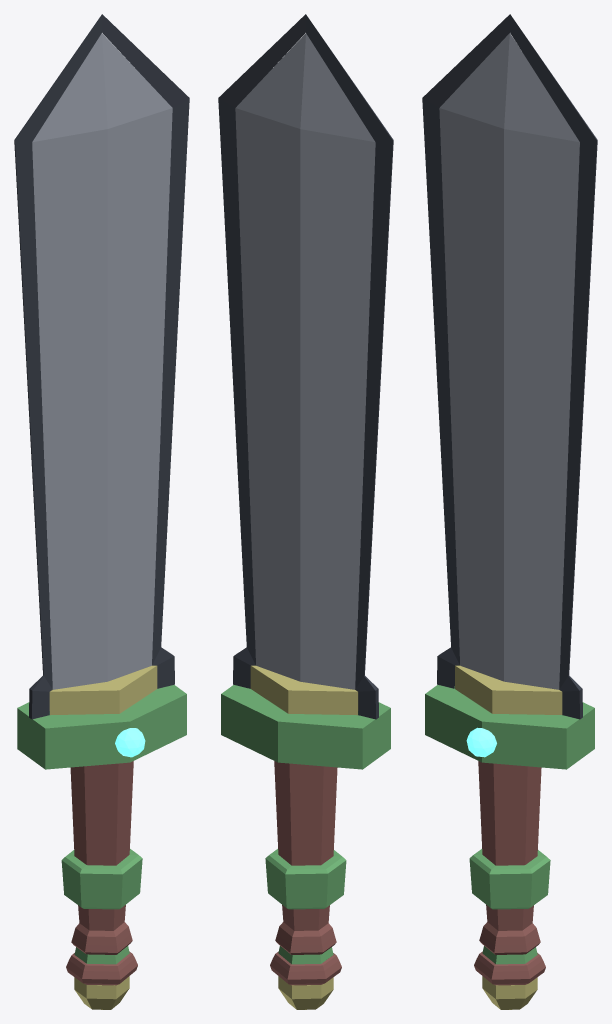
The model's file is sword_comp.gltf.
3 renders of one model, left to right at view 1: azimuth 30°, elevation 25°; view 2: azimuth 150°, elevation 25°; view 3: azimuth 330°, elevation 25°, orthographic.
Visible parts, largest first — view 1: Cylinder_2; view 2: Cylinder_2; view 3: Cylinder_2.
Part boxes in pixels (bbox=[...]): Cylinder_2: bbox=[14, 14, 189, 1009]; Cylinder_2: bbox=[218, 14, 393, 1009]; Cylinder_2: bbox=[422, 14, 597, 1009].
Bounding box in the file's own units: 3.59 × 19.49 × 2.28.
